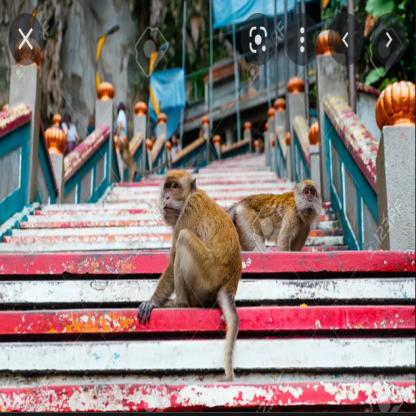monkey: (136, 167, 242, 328), (226, 178, 325, 254)
